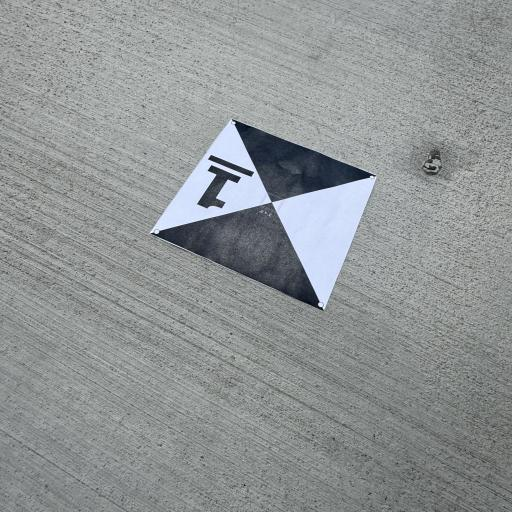target1: (148, 110, 381, 315)
